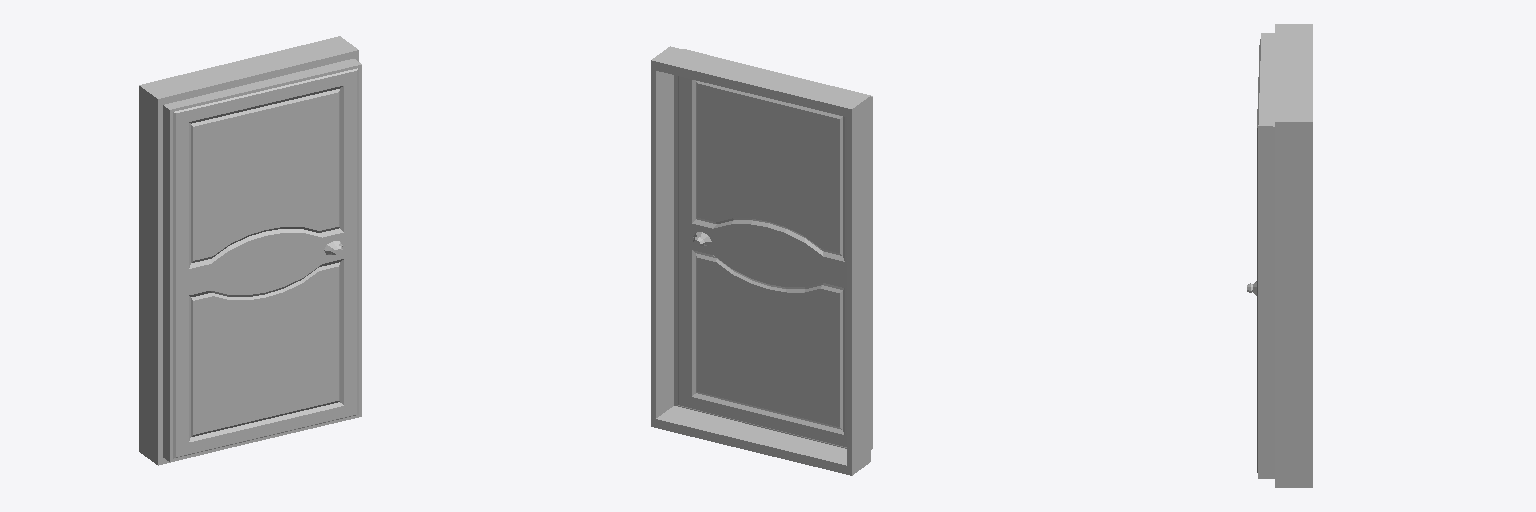
The model's file is drzwiok_000039.obj.
The picture shows the model from 3 angles: view 1: azimuth 30°, elevation 25°; view 2: azimuth 150°, elevation 25°; view 3: azimuth 270°, elevation 25°; orthographic projection.
Parts seen in each view (by area): view 1: Door_4.001_Cube.001, Kostka; view 2: Door_4.001_Cube.001, Kostka; view 3: Kostka, Door_4.001_Cube.001.
Part boxes in pixels (x1,y1,x2,y2): Door_4.001_Cube.001: (163, 59, 361, 461); Kostka: (139, 36, 358, 465); Door_4.001_Cube.001: (674, 49, 872, 449); Kostka: (651, 46, 870, 475); Kostka: (1275, 24, 1312, 487); Door_4.001_Cube.001: (1247, 33, 1274, 478).
Bounding box in the file's own units: 0.7416 × 1.29 × 0.2116.